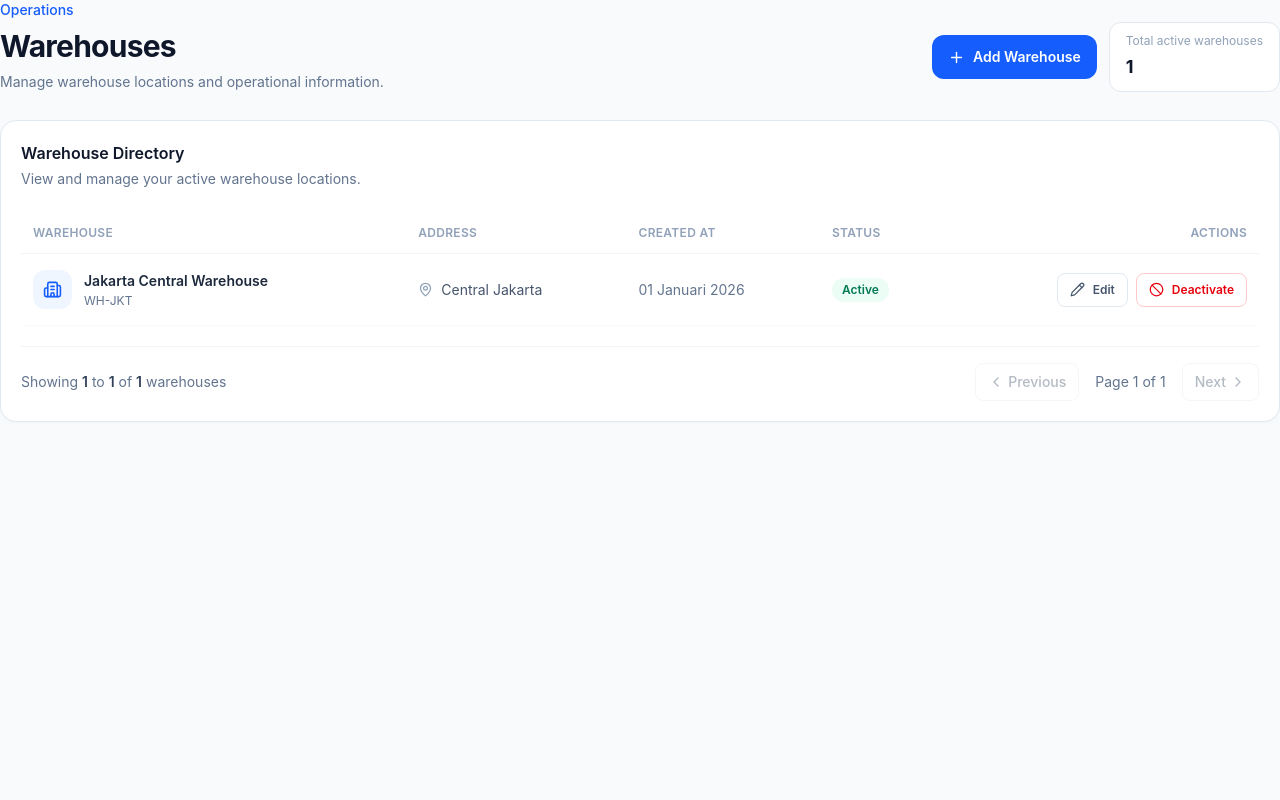
Test: WarehousesPage › edits an existing warehouse
Expected: the text "Jakarta Central Warehouse" is shown, top-left (84, 270), bottom-right (268, 290)
Click the button with aria-label "Edit Jakarta Central Warehouse" at (1092, 290), box top-left (1057, 272), bottom-right (1128, 306)
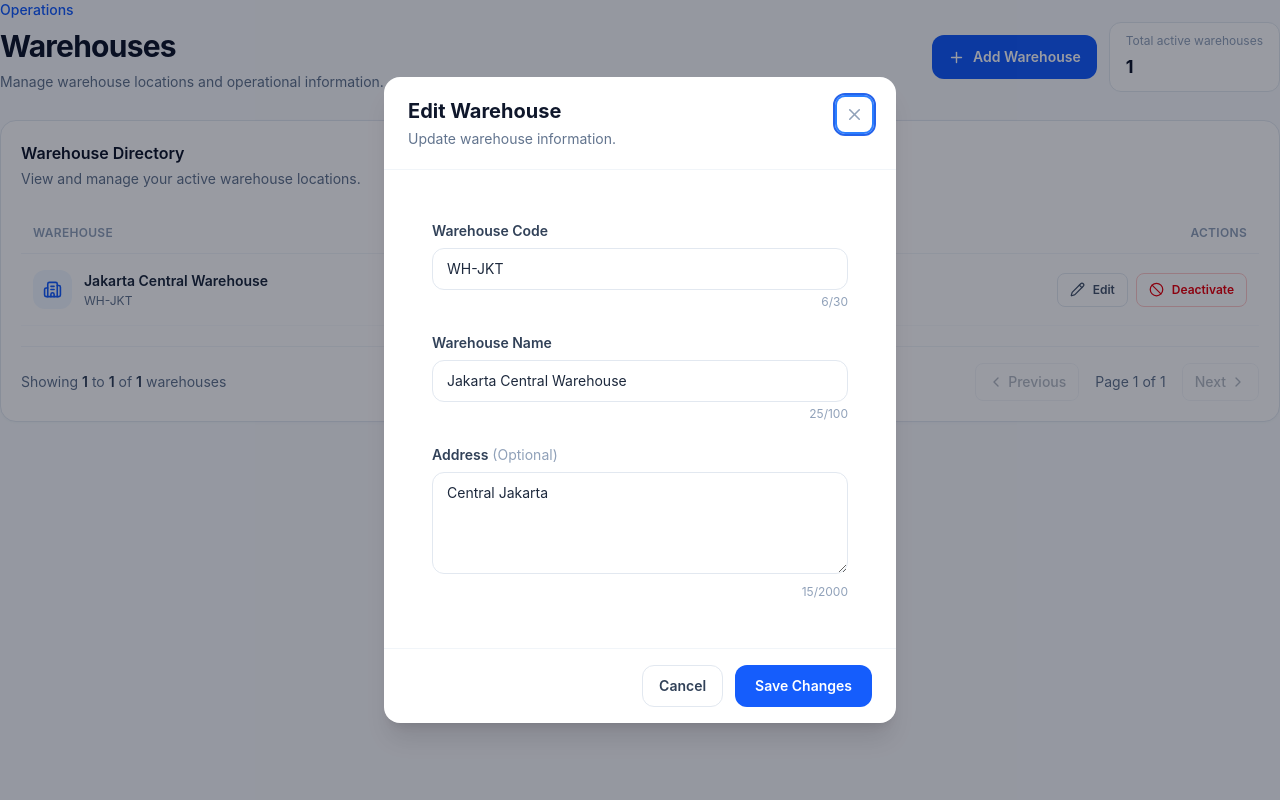
Replace the text in the field labelled "Warehouse Name" with "Jakarta Main Warehouse" at (640, 381), box top-left (432, 360), bottom-right (848, 402)
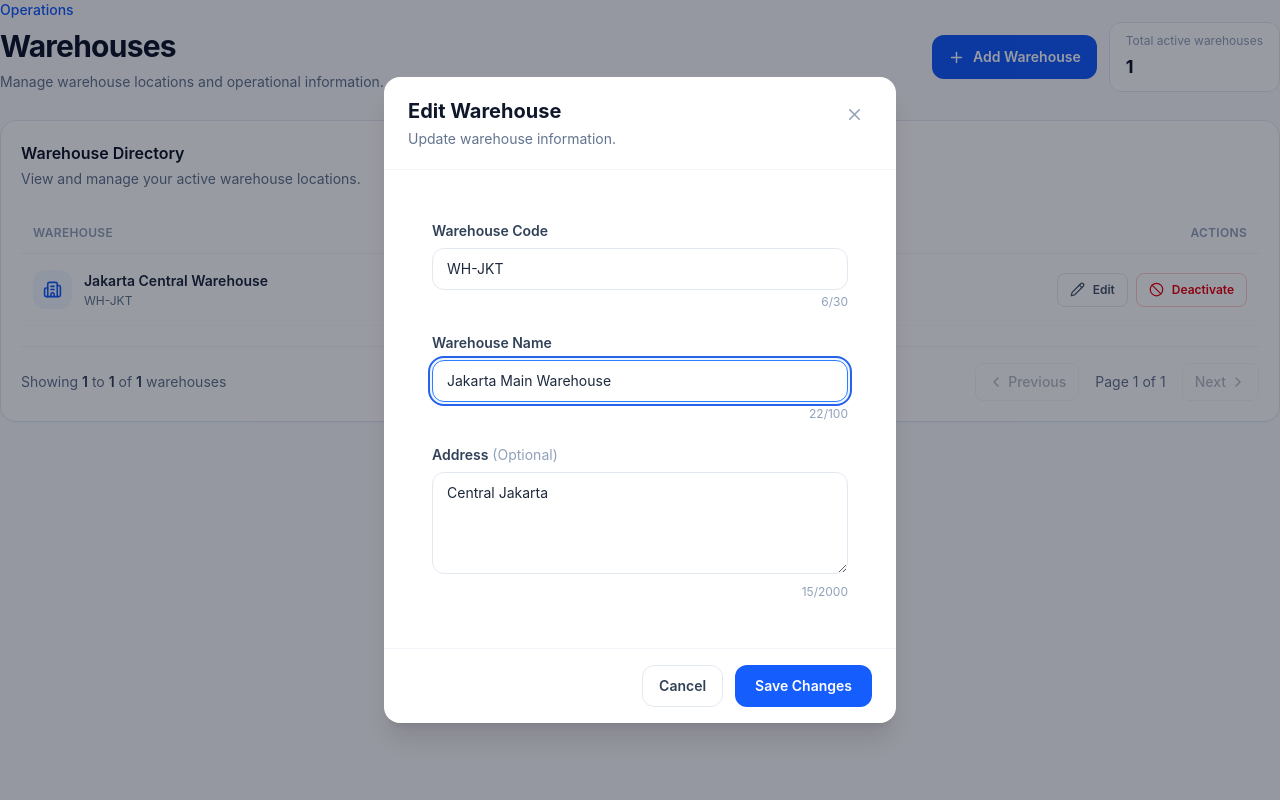
Click the button "Save Changes" at (804, 686), box top-left (735, 665), bottom-right (872, 707)
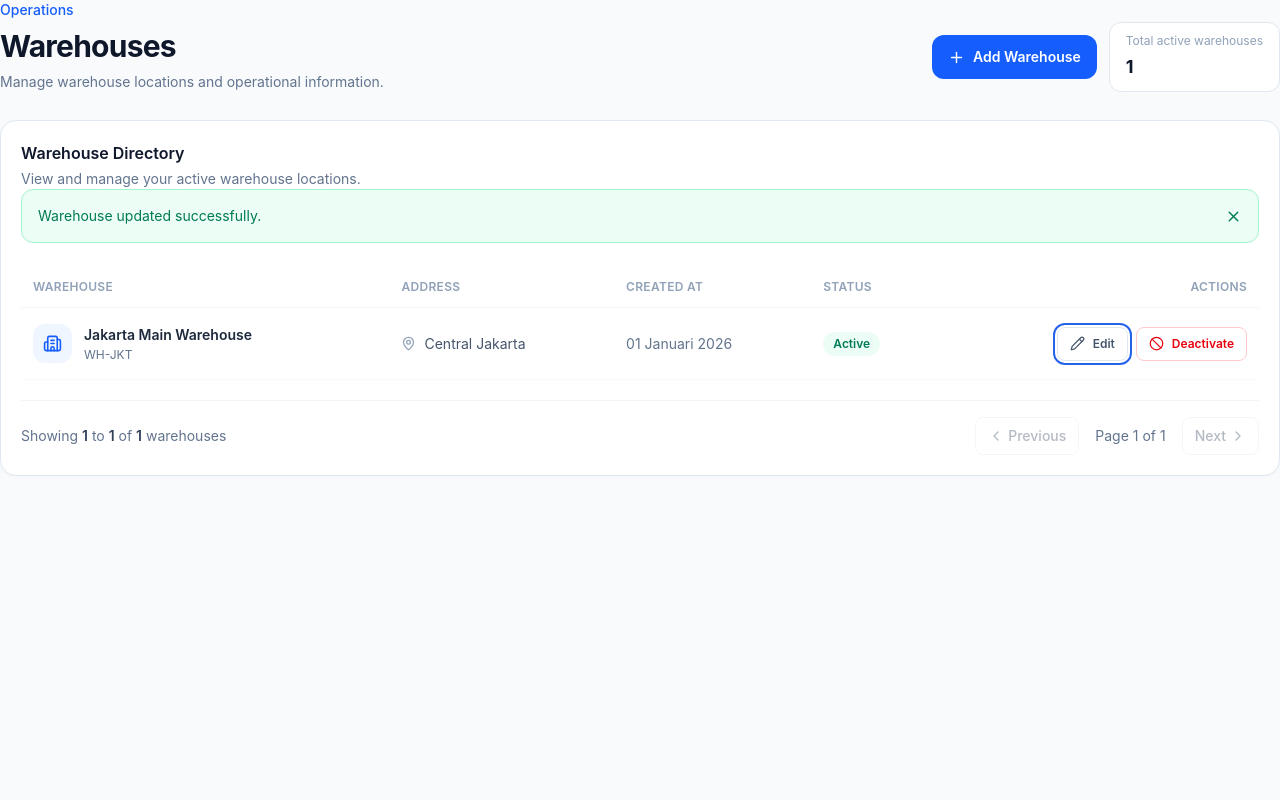
Expected: the text "Jakarta Main Warehouse" is shown, top-left (84, 324), bottom-right (252, 344)
